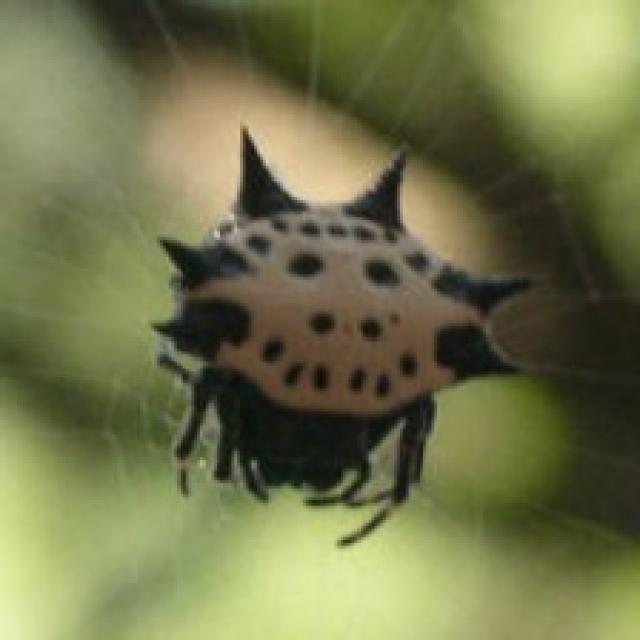Non venomous spider: (116, 115, 538, 432)
